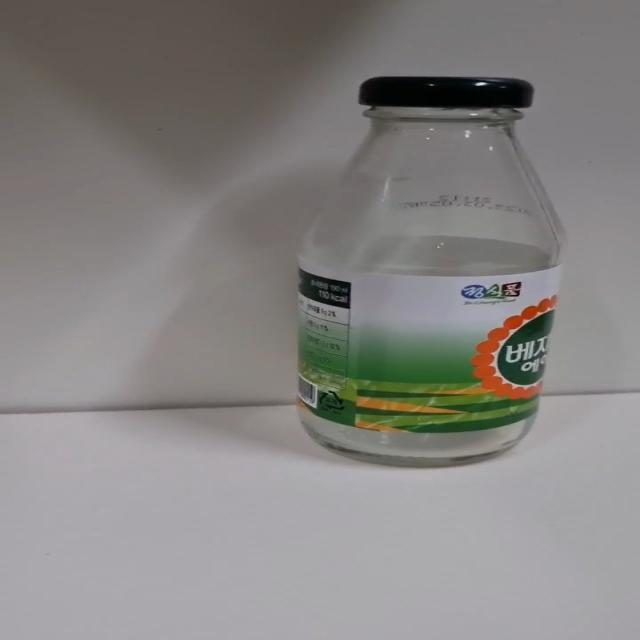Glass: (294, 76, 560, 471)
